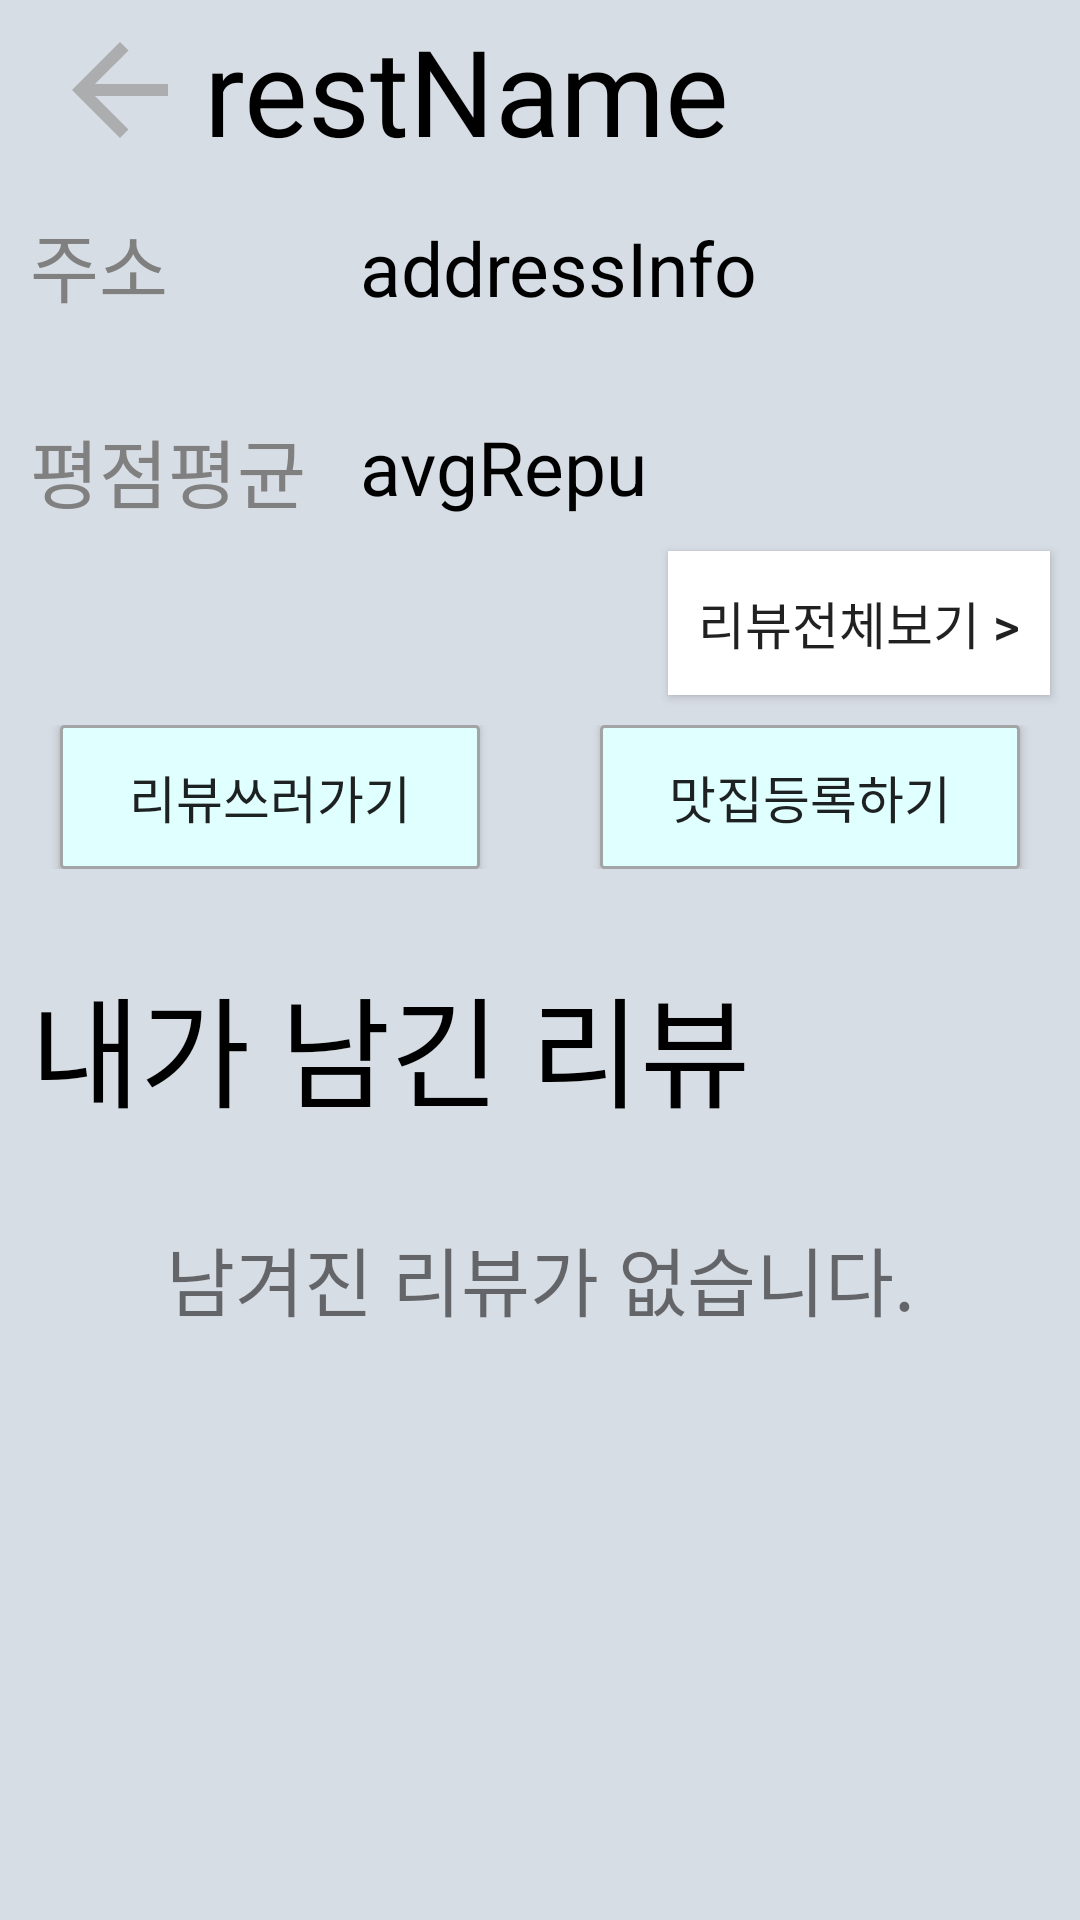

Icon click points for this 1080 × 1920 phone screenshot, format [x,y]:
arrow back: [120,90]
